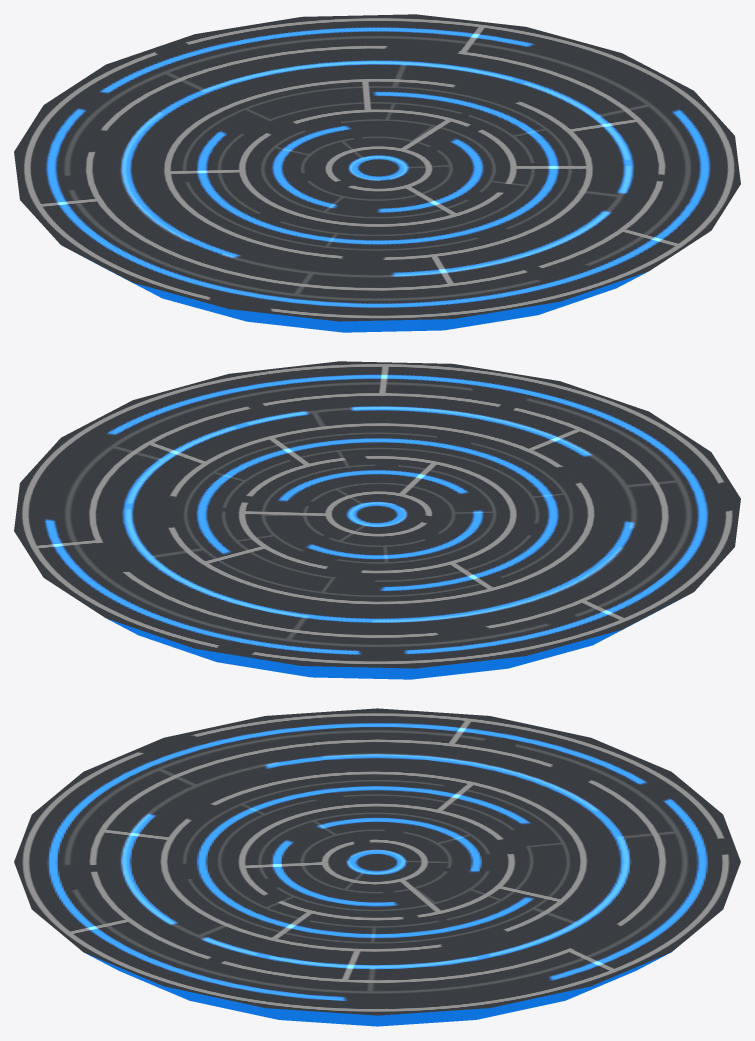
File: player_platfrom.fbx
The picture shows the model from 3 angles, top to bottom: view 1: azimuth 30°, elevation 25°; view 2: azimuth 150°, elevation 25°; view 3: azimuth 270°, elevation 25°; orthographic projection.
Parts seen in each view (by area): view 1: polySurface1; view 2: polySurface1; view 3: polySurface1.
Boxes of the visible parts, x1,y1,x2,y2 form: polySurface1: [14, 14, 740, 332]; polySurface1: [14, 361, 740, 679]; polySurface1: [14, 708, 740, 1026].
Size of the model in its own units: 1.82 by 0.0814 by 1.82.
